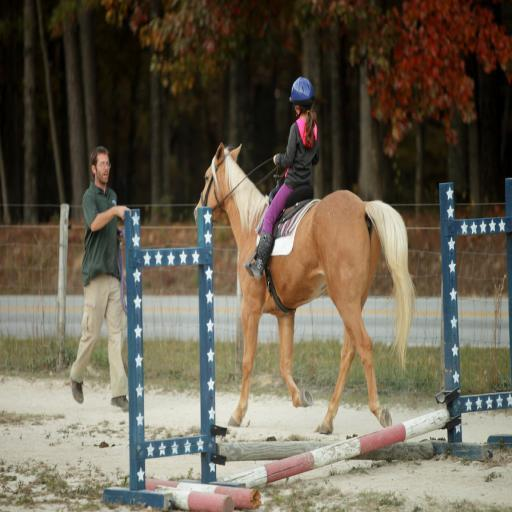horse: (192, 142, 418, 438)
